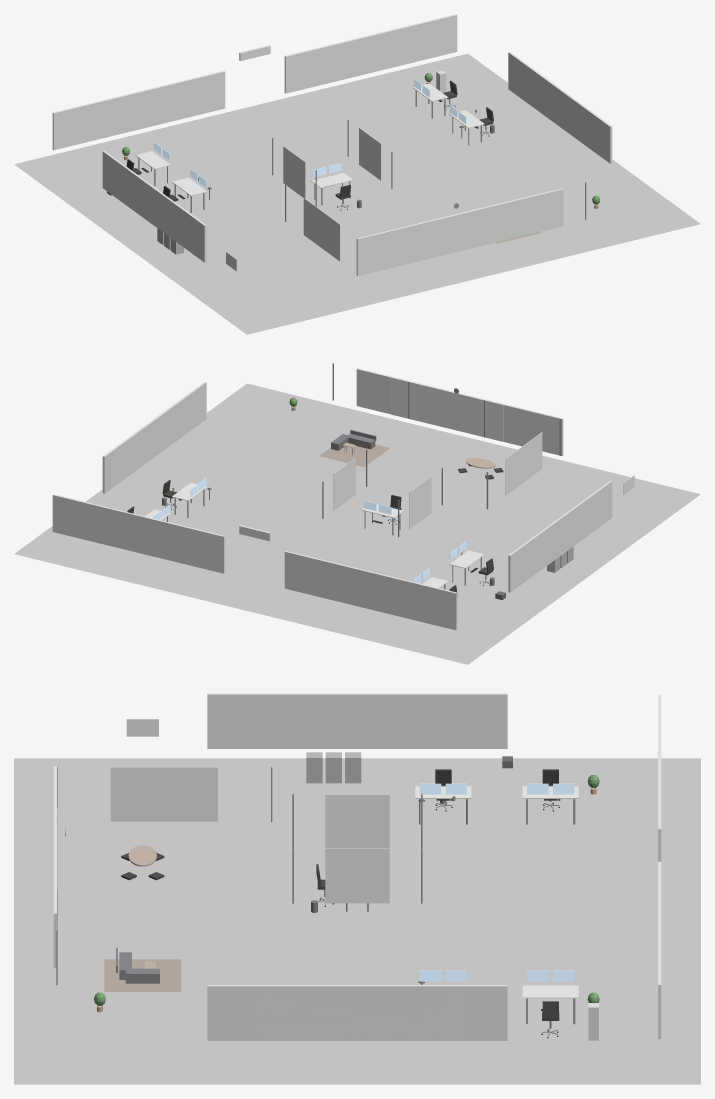
File: office_v17.glb
3 views of the same model, one above another, from view 1: azimuth 30°, elevation 25°; view 2: azimuth 150°, elevation 25°; view 3: azimuth 270°, elevation 25° (orthographic). The views are drawn at different scales.
Visible parts, largest first — view 1: Plane, Cube, Cube.001, Cube.002, Cube.004, Cube.005, Cube.013, Cube.007, Cube.008; view 2: Plane, Cube.002, Cube.001, Cube.014, Cube.004, Cube.005, Cube, Cube.013, Cube.008, Cube.007, Plane.001; view 3: Plane, Cube.004, Cube.005, Cube.013, Cube.006, Cube.008, Cube.007, Plane.001, Cube, Cube.078, Cube.002.
Part boxes in pixels (<box>): Plane: <box>14,53,700,334</box>; Cube: <box>356,188,563,275</box>; Cube.001: <box>52,71,225,150</box>; Cube.002: <box>284,14,457,93</box>; Cube.004: <box>102,150,206,262</box>; Cube.005: <box>508,52,612,163</box>; Cube.013: <box>303,198,340,261</box>; Cube.007: <box>283,146,305,198</box>; Cube.008: <box>359,127,381,180</box>; Plane: <box>14,383,700,664</box>; Cube.002: <box>52,494,225,573</box>; Cube.001: <box>284,551,457,630</box>; Cube.014: <box>390,377,503,441</box>; Cube.004: <box>508,480,612,592</box>; Cube.005: <box>102,382,206,493</box>; Cube: <box>356,368,563,455</box>; Cube.013: <box>505,432,542,495</box>; Cube.008: <box>333,457,355,510</box>; Cube.007: <box>409,476,431,528</box>; Plane.001: <box>319,444,389,466</box>; Plane: <box>14,758,700,1084</box>; Cube.004: <box>207,693,507,748</box>; Cube.005: <box>207,985,507,1040</box>; Cube.013: <box>110,767,217,821</box>; Cube.006: <box>250,989,464,1037</box>; Cube.008: <box>325,848,389,903</box>; Cube.007: <box>325,794,389,848</box>; Plane.001: <box>104,959,181,991</box>; Cube: <box>53,766,56,968</box>; Cube.078: <box>522,985,578,998</box>; Cube.002: <box>658,861,661,1039</box>.
Bounding box in the file's own units: 18 × 2.65 × 16.
